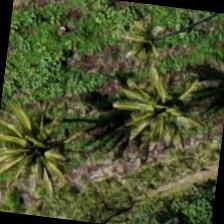Kelapa_Sawit: (114, 52, 214, 152), (94, 0, 194, 90), (0, 99, 80, 199)
